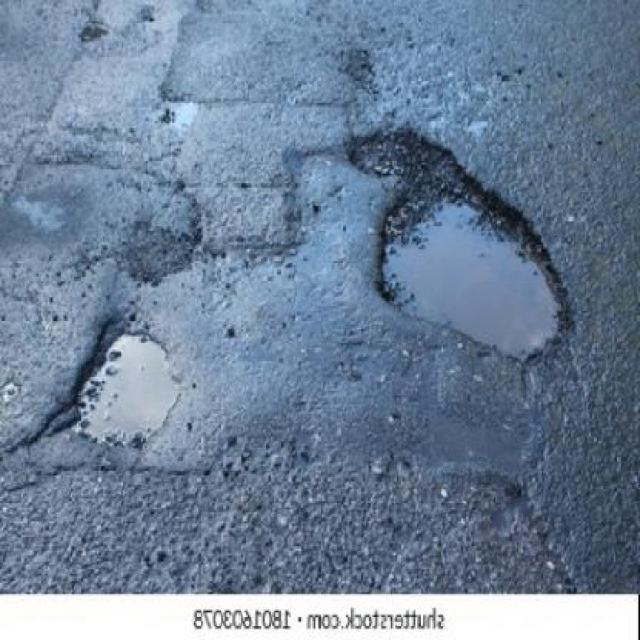Pothole: (349, 129, 571, 358), (76, 334, 180, 444)
